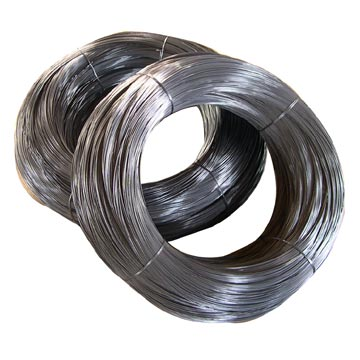Nonrec_Tangler: (10, 12, 343, 328)
